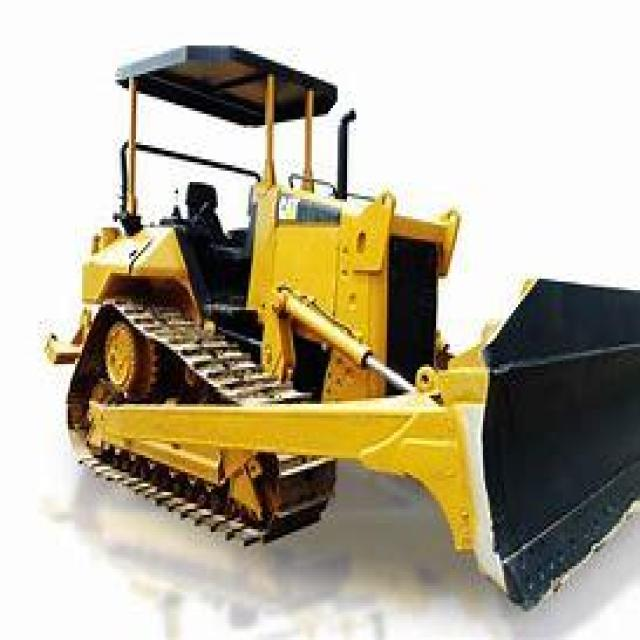buldozerpayloadergrader: (54, 28, 638, 609)
